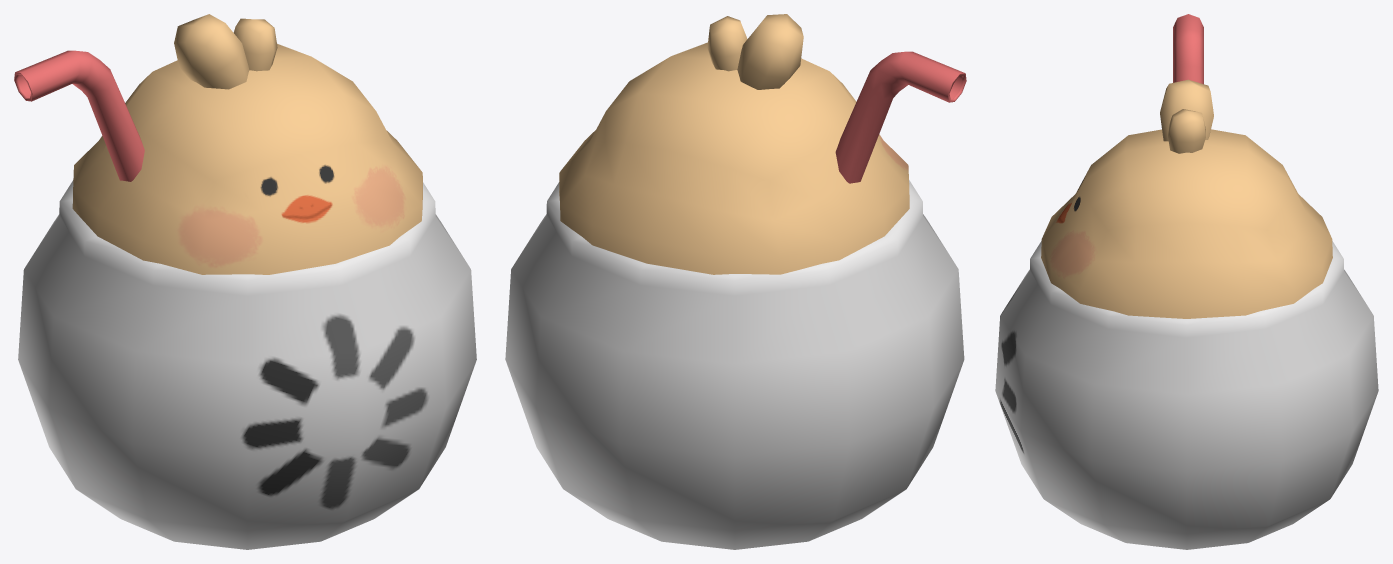
Rendered from WhiteLoad 1.fbx.
The picture shows the model from 3 angles, left to right: view 1: azimuth 30°, elevation 25°; view 2: azimuth 150°, elevation 25°; view 3: azimuth 270°, elevation 25°; orthographic projection. The views are drawn at different scales.
Visible parts, largest first — view 1: NurbsPath.004; view 2: NurbsPath.004; view 3: NurbsPath.004.
Boxes of the visible parts, left/top/right/bottom form: NurbsPath.004: left=14, top=14, right=476, bottom=549; NurbsPath.004: left=505, top=14, right=966, bottom=549; NurbsPath.004: left=995, top=14, right=1378, bottom=549.
Size of the model in its own units: 41.8 by 46.47 by 39.13.
Materials: 1 (1 with a texture image).
